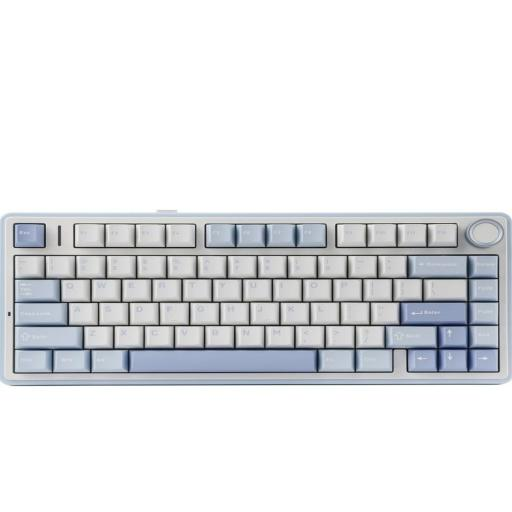KEYBOARD-2: (0, 213, 511, 384)
